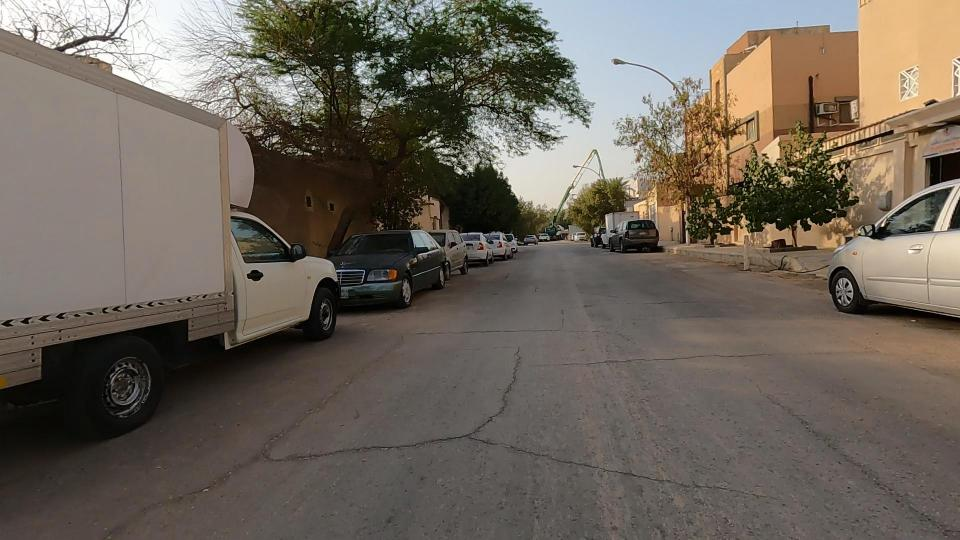POTHOLES: (310, 337, 643, 509)
